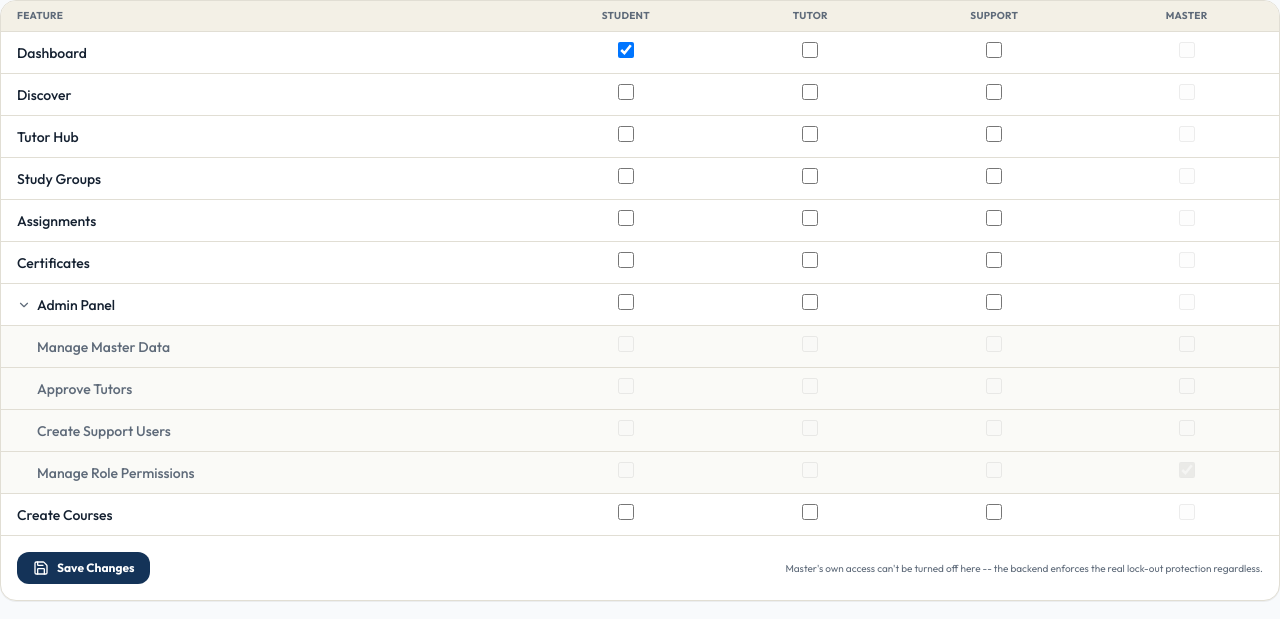
Test: RoleVisibilityManager › shows a "Saved" confirmation after a successful save
Check: the checkbox named "Student - Dashboard" is shown, box [618, 42, 634, 58]
Click the button "Save Changes": point(84, 568) [17, 552, 150, 584]
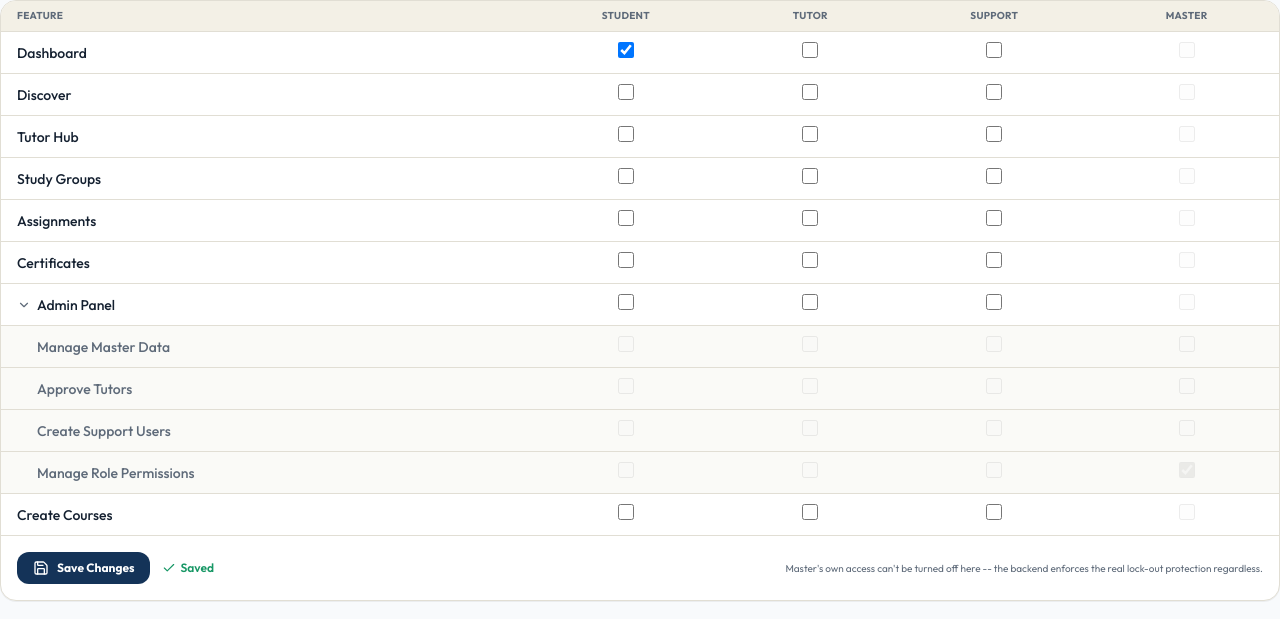
Check: the text "Saved" is shown, box [180, 560, 214, 576]
